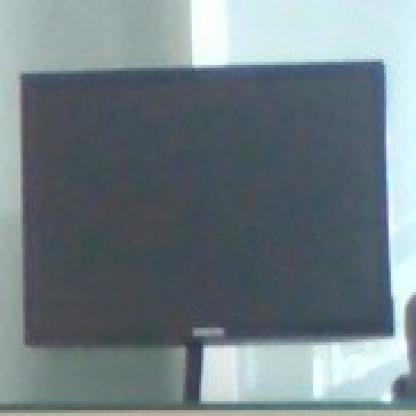not trash: (20, 60, 394, 408)
